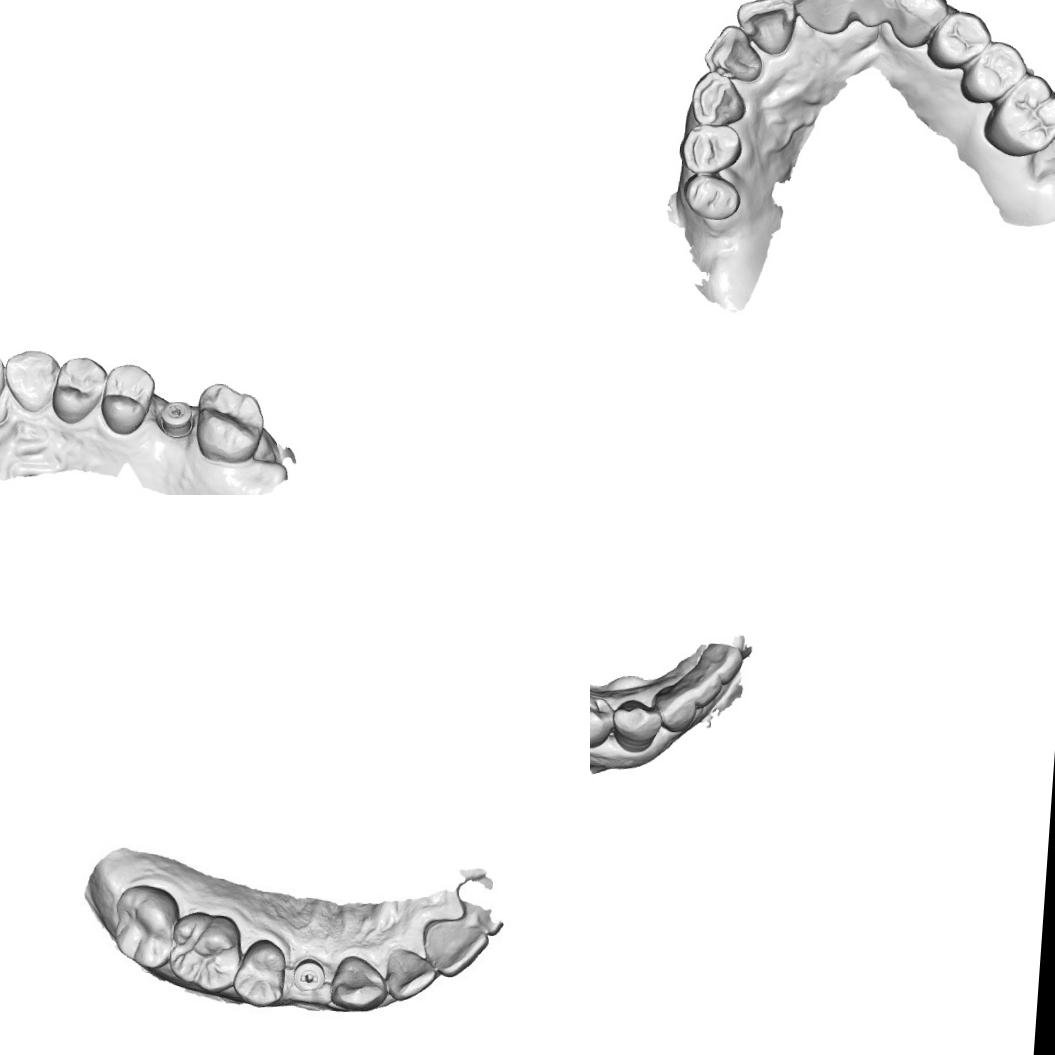canine: (0, 344, 61, 416), (686, 66, 748, 130), (608, 694, 664, 758), (328, 952, 384, 1012), (886, 0, 949, 52)
implant_minus: (291, 953, 328, 998), (156, 398, 194, 438)
incisor: (414, 916, 488, 979), (700, 21, 766, 86), (732, 0, 800, 58), (649, 681, 704, 736), (384, 948, 438, 1001), (678, 660, 725, 714), (784, 0, 854, 36), (693, 640, 746, 686), (844, 0, 901, 32)
molar: (979, 68, 1055, 161), (190, 379, 268, 466), (164, 910, 239, 990), (109, 882, 178, 968)
premolar: (956, 35, 1028, 109), (923, 5, 994, 73), (48, 350, 109, 426), (98, 360, 156, 439), (676, 120, 746, 177), (236, 938, 290, 1009), (682, 170, 746, 224), (590, 688, 616, 752)
